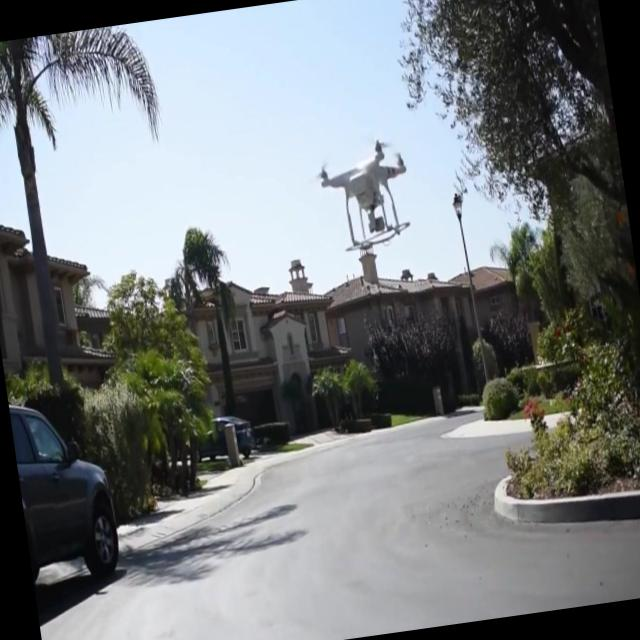drone: (311, 133, 420, 260)
